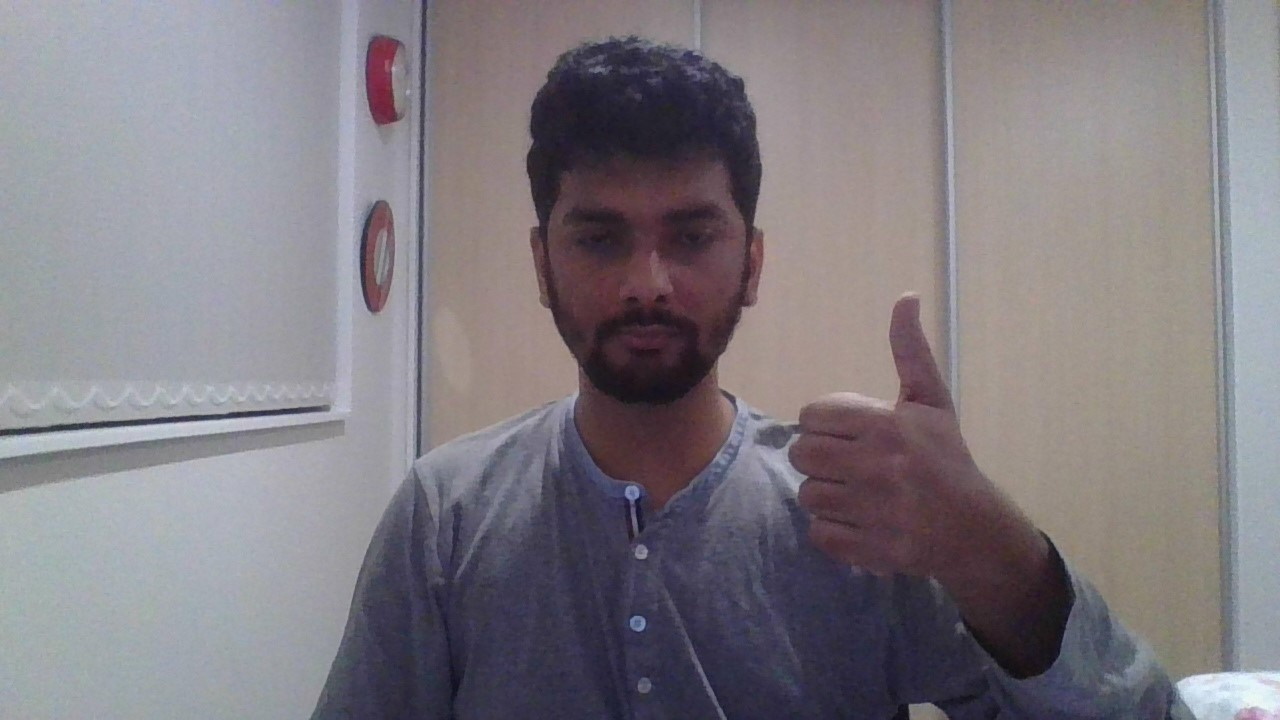good: (786, 293, 975, 576)
